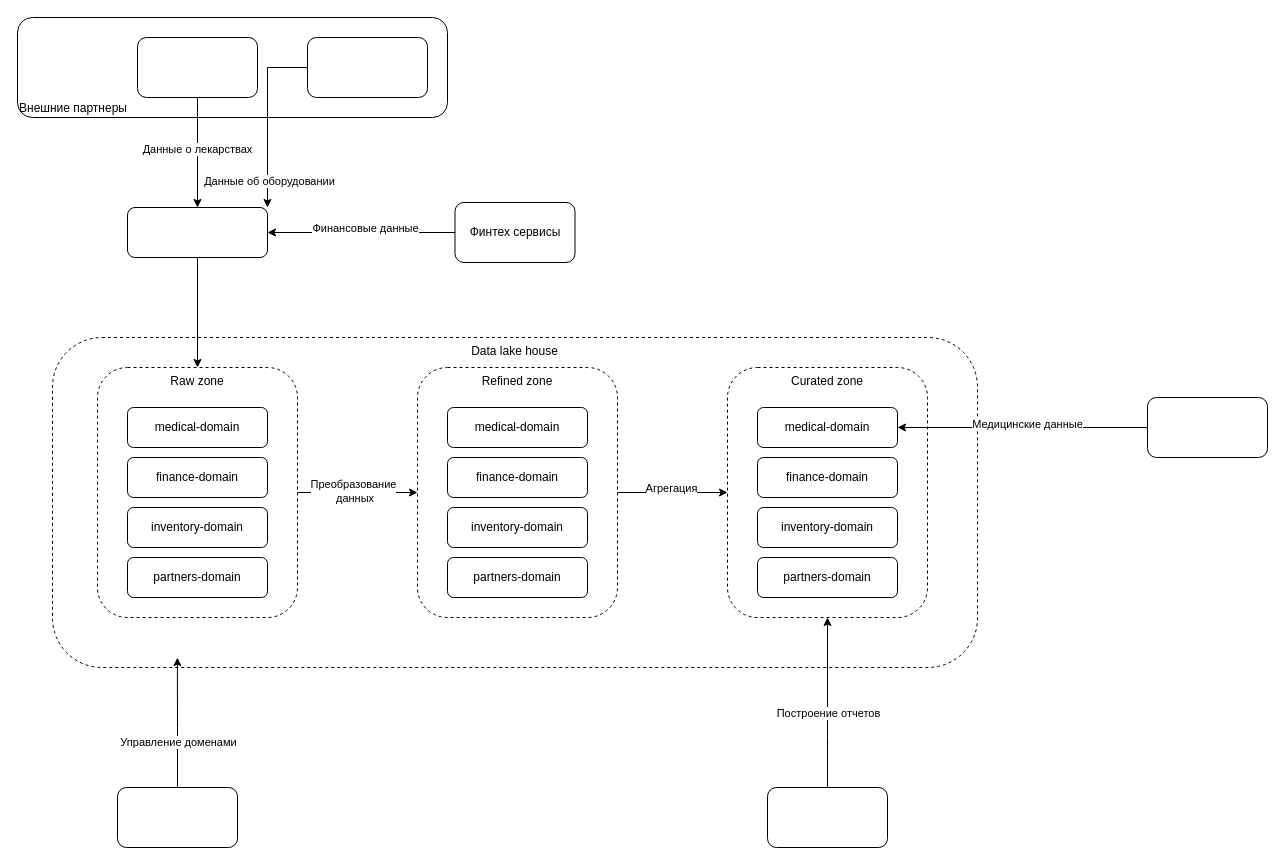
The diagram is 1285 pixels wide and 865 high, and some of its shapes have lost their labels. Here are the shapes that lost their labels. From the top down, the centre of each, then its label:
At point 197,67: "Фармацевтическая компания".
At point 367,67: "Производитель оборудования".
At point 197,232: "Интеграционная шина".
At point 1207,427: "ИИ сервисы".
At point 177,817: "DataHub".
At point 827,817: "Портал самообслуживания".
